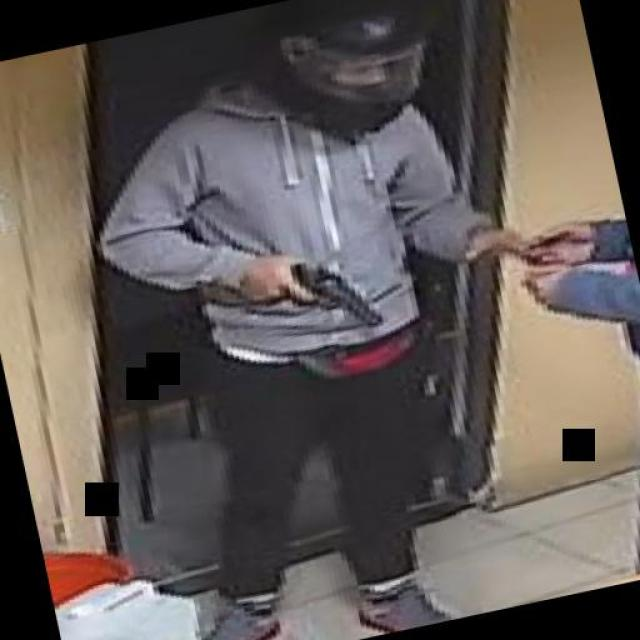gun: (235, 236, 389, 352)
